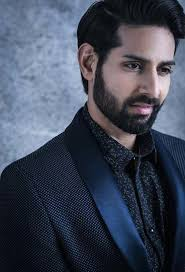Indian_Male: (95, 32, 175, 139)
